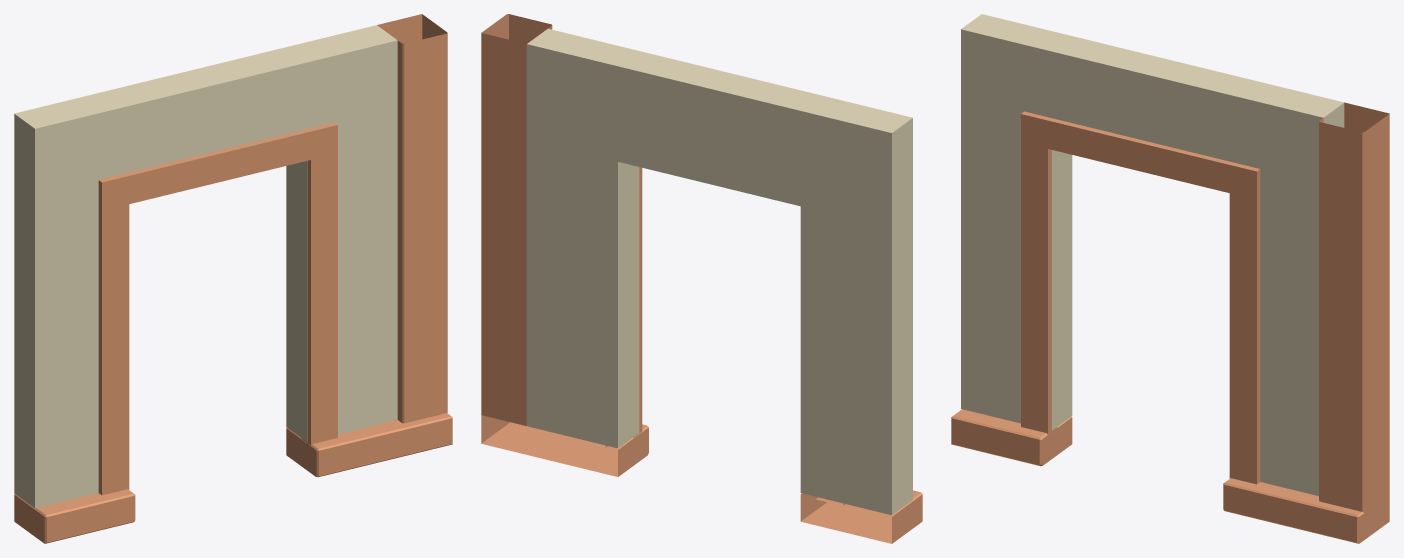
Rendered from Wall_door_low.fbx.
3 renders of one model, left to right at view 1: azimuth 30°, elevation 25°; view 2: azimuth 150°, elevation 25°; view 3: azimuth 330°, elevation 25°, orthographic.
Parts seen in each view (by area): view 1: Cube.035, Wall_door_low, Wall_doorframe_low; view 2: Cube.035, Wall_door_low, Wall_doorframe_low; view 3: Cube.035, Wall_door_low, Wall_doorframe_low.
Boxes of the visible parts, bbox=[...] form: Cube.035: bbox=[14, 25, 397, 508]; Wall_door_low: bbox=[14, 14, 452, 543]; Wall_doorframe_low: bbox=[98, 122, 337, 495]; Cube.035: bbox=[526, 28, 912, 515]; Wall_door_low: bbox=[481, 14, 922, 543]; Wall_doorframe_low: bbox=[605, 167, 845, 505]; Cube.035: bbox=[961, 14, 1344, 495]; Wall_door_low: bbox=[951, 102, 1389, 543]; Wall_doorframe_low: bbox=[1021, 111, 1260, 484].
Bounding box in the file's own units: 450 × 430 × 60.
